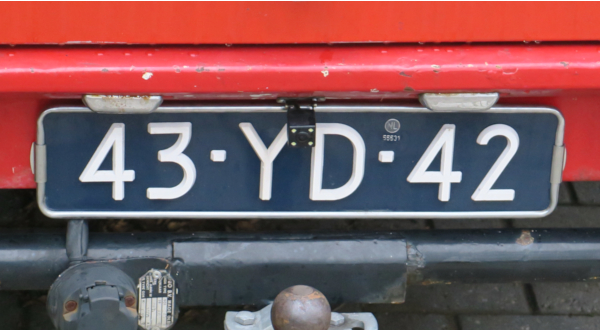license_plate: (37, 107, 558, 217)
